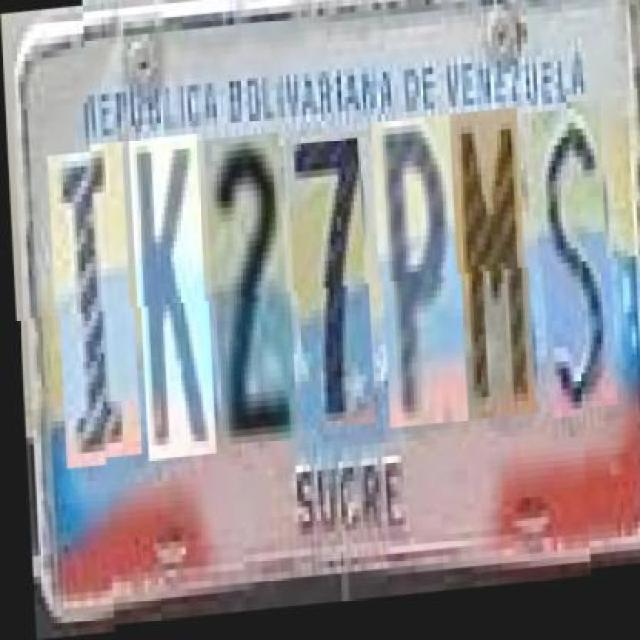2: (205, 138, 293, 450)
7: (288, 132, 370, 436)
i: (49, 143, 136, 463)
k: (130, 137, 212, 463)
m: (451, 118, 531, 430)
p: (373, 124, 464, 436)
s: (533, 118, 613, 431)
